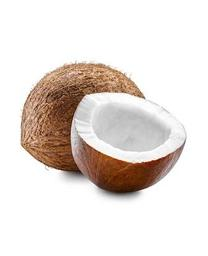coconut: (20, 61, 147, 171), (71, 92, 187, 194)
